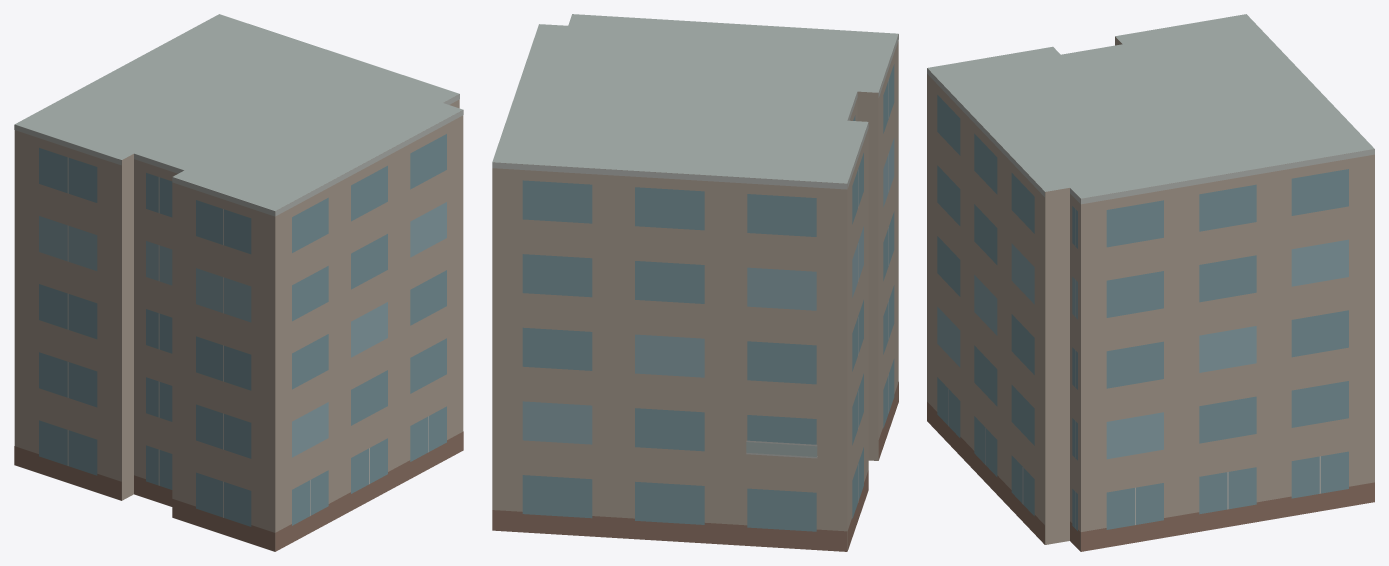
File: survey-upis-32968616.glb
3 renders of one model, left to right at view 1: azimuth 30°, elevation 25°; view 2: azimuth 150°, elevation 25°; view 3: azimuth 270°, elevation 25°, orthographic. The views are drawn at different scales.
Visible parts, largest first — view 1: survey-upis-32968616.tmp; view 2: survey-upis-32968616.tmp; view 3: survey-upis-32968616.tmp.
Boxes of the visible parts, x1=… form: survey-upis-32968616.tmp: x1=14, y1=14, x2=463, y2=551; survey-upis-32968616.tmp: x1=492, y1=14, x2=898, y2=551; survey-upis-32968616.tmp: x1=927, y1=14, x2=1374, y2=551.
Bounding box in the file's own units: 17.12 × 15.25 × 17.53.
